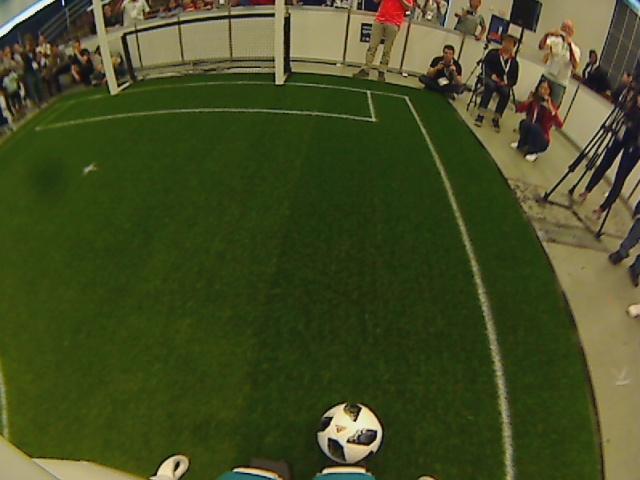ball: (315, 399, 383, 467)
